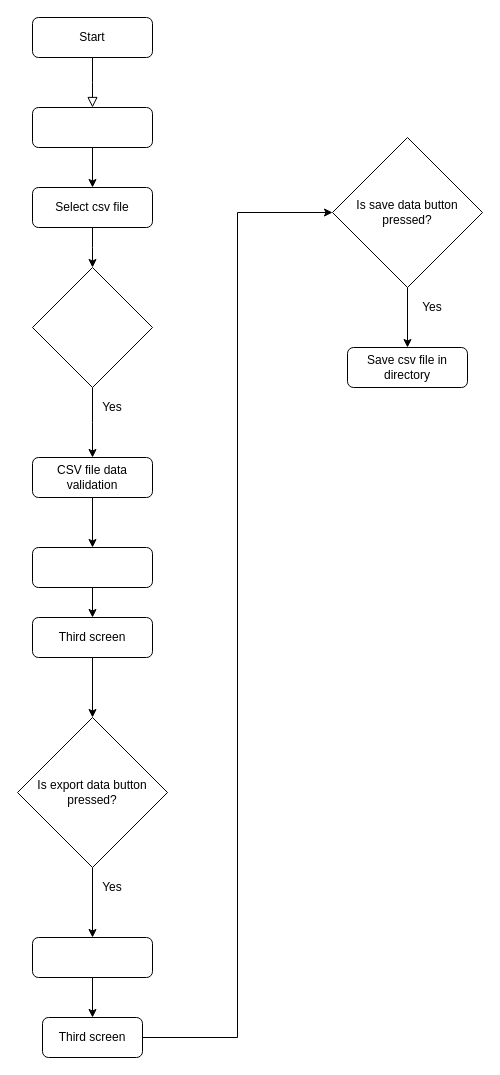
Image size: 500x1075. Some labels were removed from this diagram. Here are the shapes that lost their labels. From the top down, the centre of each, then its label:
[92,127]: First screen
[92,327]: Is import button pressed?
[92,567]: Predict Question type
[92,957]: Process csv file, generate analysis
